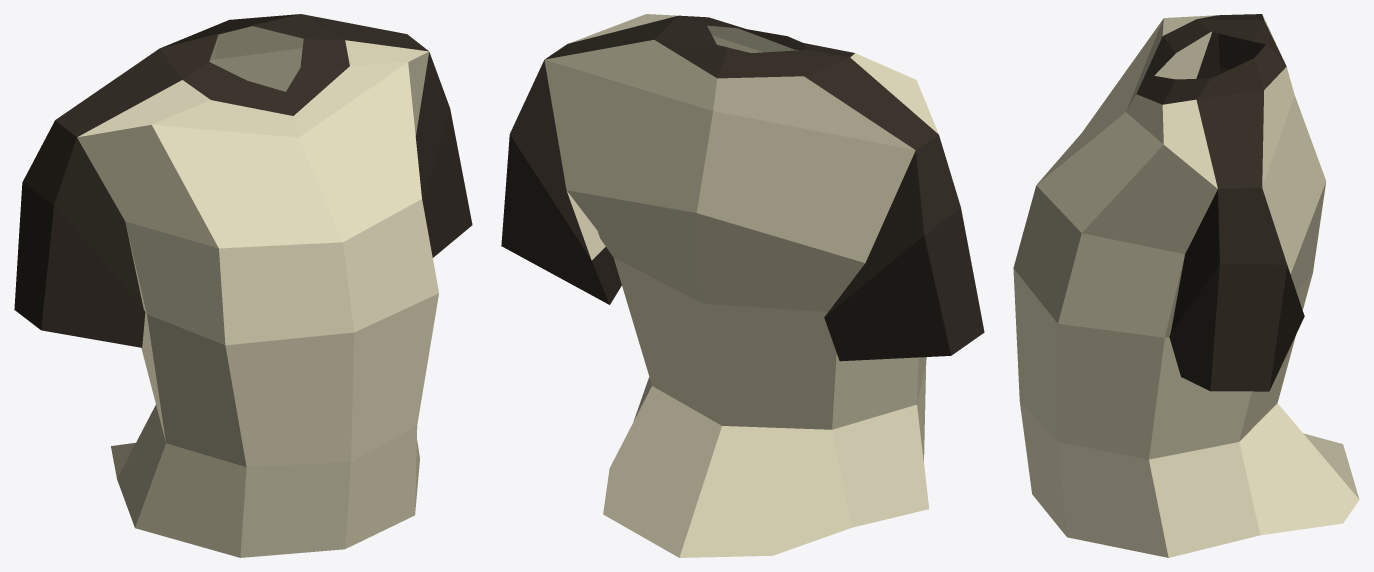
The model's file is ShortTshirt.fbx.
3 views of the same model, side by side, from view 1: azimuth 30°, elevation 25°; view 2: azimuth 150°, elevation 25°; view 3: azimuth 270°, elevation 25° (orthographic). The views are drawn at different scales.
Visible parts, largest first — view 1: ShortTshirt; view 2: ShortTshirt; view 3: ShortTshirt.
Boxes of the visible parts, left/top/right/bottom form: ShortTshirt: left=14, top=14, right=472, bottom=557; ShortTshirt: left=501, top=14, right=984, bottom=557; ShortTshirt: left=1013, top=14, right=1359, bottom=557.
Bounding box in the file's own units: 92.54 × 92.3 × 63.57.
